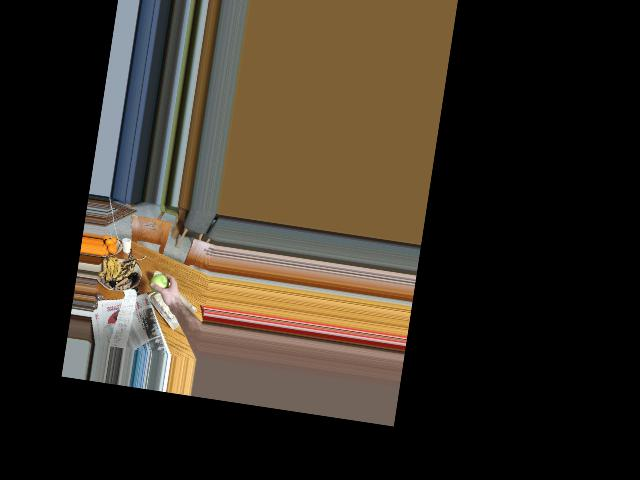apple: (147, 272, 174, 301)
